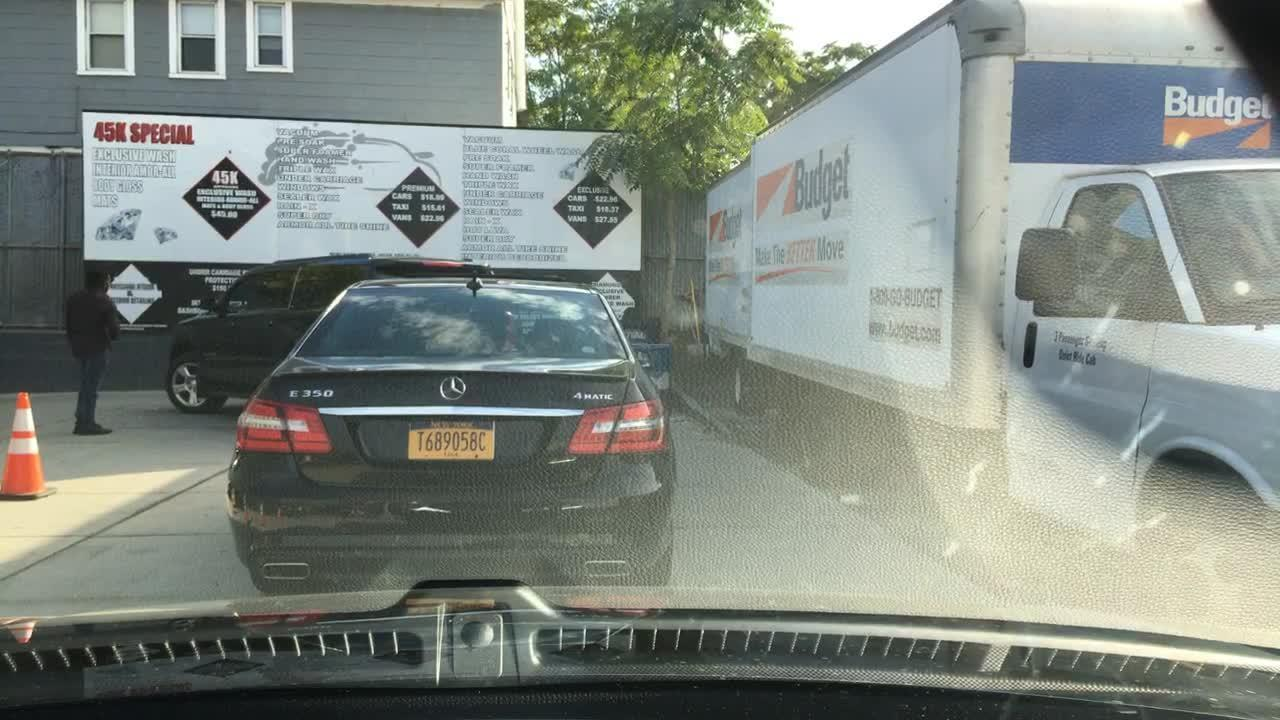Mercedes: (428, 358, 483, 412)
